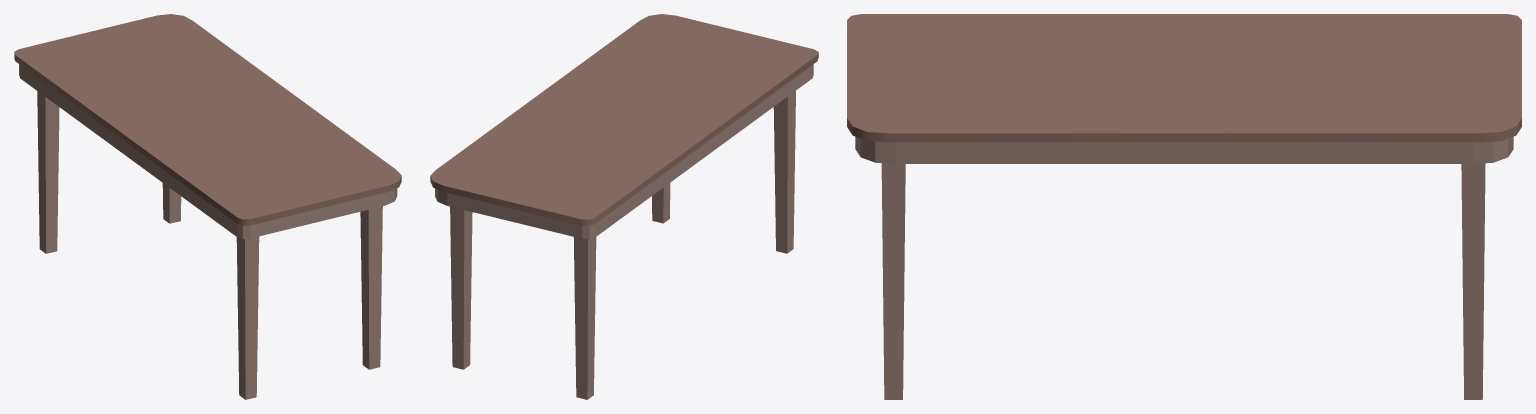
The model's file is desk.gltf.
3 views of the same model, side by side, from view 1: azimuth 30°, elevation 25°; view 2: azimuth 150°, elevation 25°; view 3: azimuth 270°, elevation 25° (orthographic). The views are drawn at different scales.
Parts seen in each view (by area): view 1: low_poly_interior.282; view 2: low_poly_interior.282; view 3: low_poly_interior.282.
Boxes of the visible parts, bbox=[...] form: low_poly_interior.282: bbox=[14, 14, 401, 399]; low_poly_interior.282: bbox=[430, 14, 818, 399]; low_poly_interior.282: bbox=[847, 14, 1521, 399].
Bounding box in the file's own units: 0.663 × 0.7232 × 1.58.
1 material, 1 textured.
